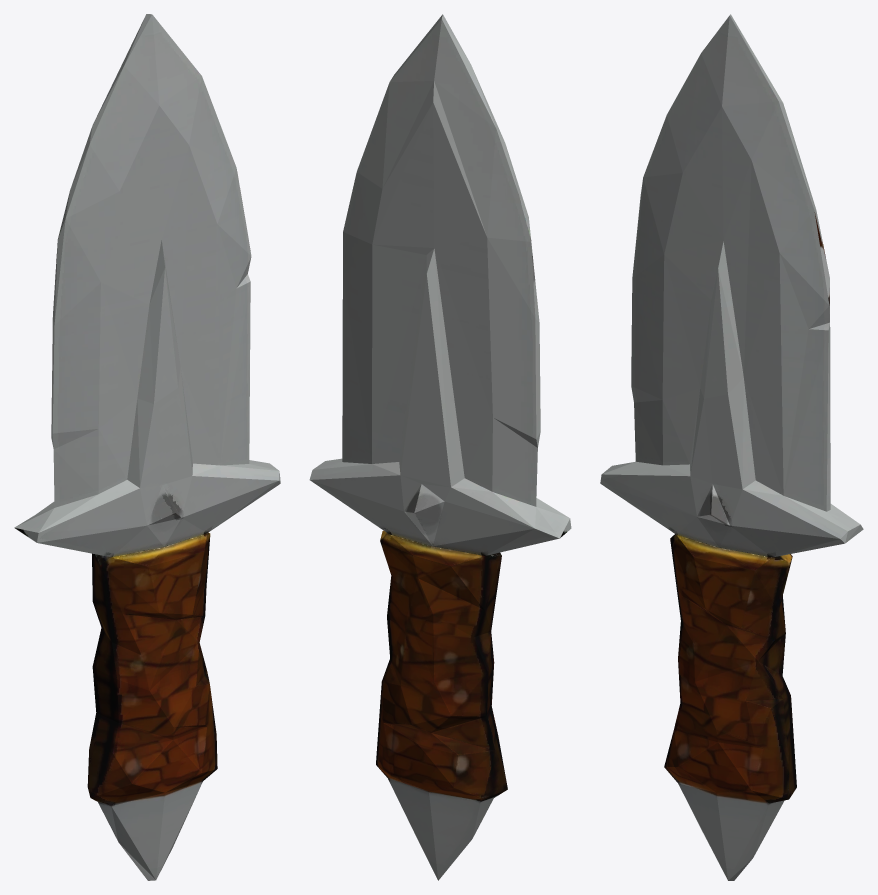
File: dagger_blade.glb
The picture shows the model from 3 angles, left to right: view 1: azimuth 30°, elevation 25°; view 2: azimuth 150°, elevation 25°; view 3: azimuth 330°, elevation 25°; orthographic projection.
Visible parts, largest first — view 1: TexturedMesh_.obj; view 2: TexturedMesh_.obj; view 3: TexturedMesh_.obj.
Part boxes in pixels (x1,y1,x2,y2): TexturedMesh_.obj: [14, 14, 280, 880]; TexturedMesh_.obj: [309, 14, 571, 880]; TexturedMesh_.obj: [600, 14, 863, 880].
Bounding box in the file's own units: 0.6014 × 1.98 × 0.186.
1 material, 1 textured.
